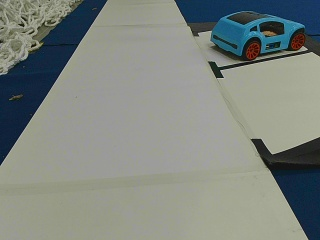car: (210, 12, 305, 58)
